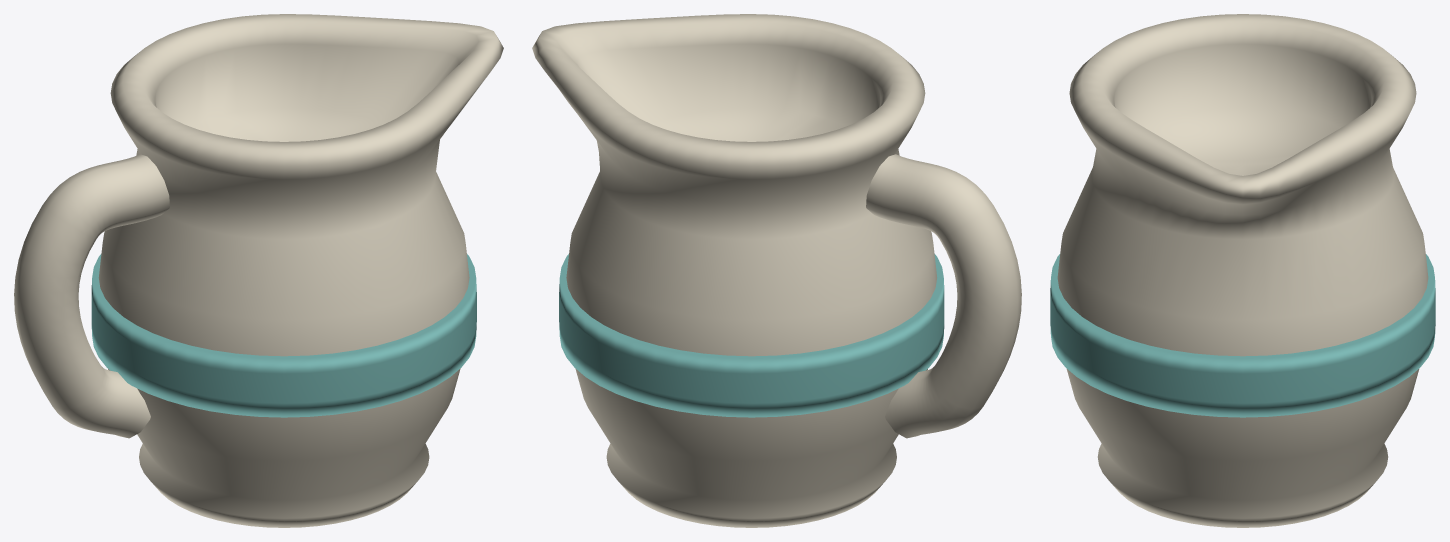
Rendered from jug5.glb.
The picture shows the model from 3 angles, left to right: view 1: azimuth 30°, elevation 25°; view 2: azimuth 150°, elevation 25°; view 3: azimuth 270°, elevation 25°; orthographic projection.
Parts seen in each view (by area): view 1: body, band, handle; view 2: body, band, handle; view 3: body, band.
Part boxes in pixels (x1=…): body: x1=98, y1=14, x2=503, y2=527; band: x1=91, y1=254, x2=476, y2=417; handle: x1=14, y1=154, x2=169, y2=438; body: x1=532, y1=14, x2=937, y2=527; band: x1=559, y1=254, x2=944, y2=417; handle: x1=866, y1=154, x2=1021, y2=438; body: x1=1057, y1=14, x2=1428, y2=527; band: x1=1050, y1=254, x2=1435, y2=417.
Size of the model in its own units: 0.2755 by 0.213 by 0.191.
